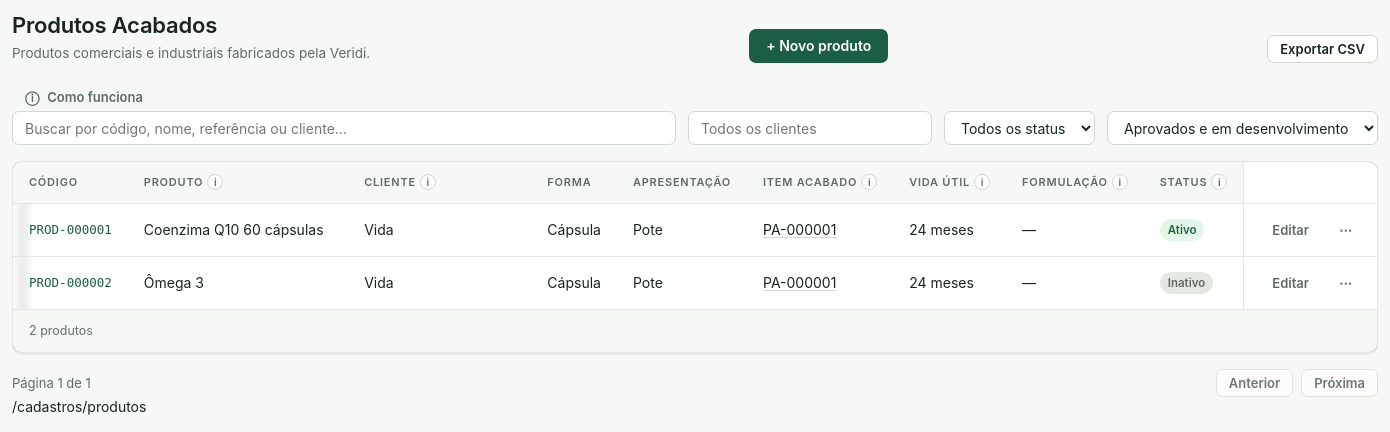
Test: MASTER-DATA-EDIT-PERMISSIONS-01 — Comercial e Administrador mantêm o Produto › COMMERCIAL: + Novo produto, Editar e Inativar/Reativar, com CMV e Custos no menu
This screenshot has width=1390, height=432.
Expected: the text "PROD-000001" is shown, 13,204 -> 128,256
Expected: the number of buttons "Editar" is 2, 1259,216 -> 1322,244; 1259,269 -> 1322,297
Click the button named "Mais ações de PROD-000001" at (1346, 230), box 1330,216 -> 1361,244
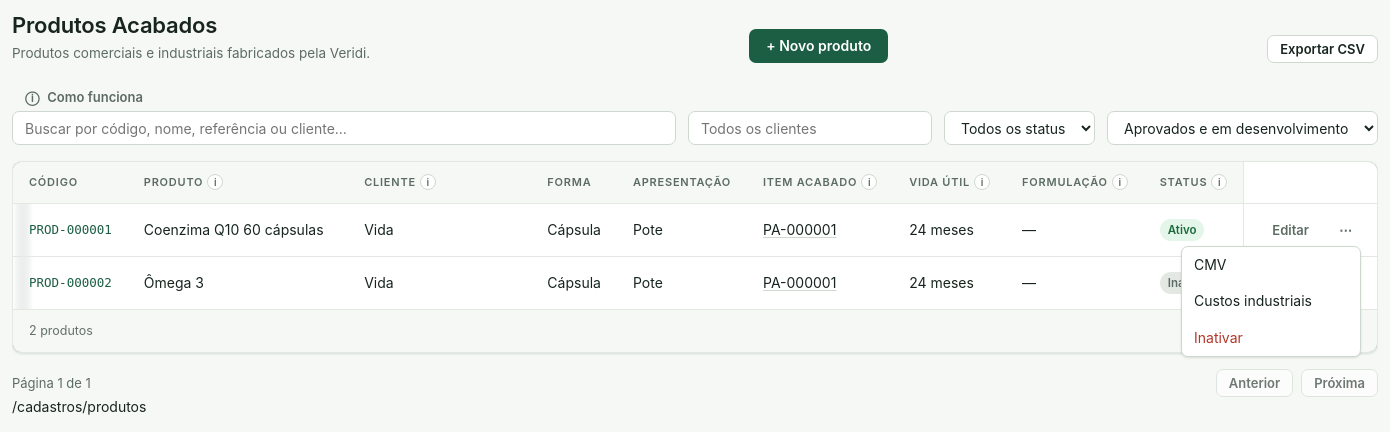
Expected: the menu item "CMV" is shown, 1182,247 -> 1360,283
Expected: the menu item "Custos industriais" is shown, 1182,283 -> 1360,320
Expected: the menu item "Inativar" is shown, 1182,320 -> 1360,356
Click the button named "Mais ações de PROD-000001" at (1346, 230), box 1330,216 -> 1361,244
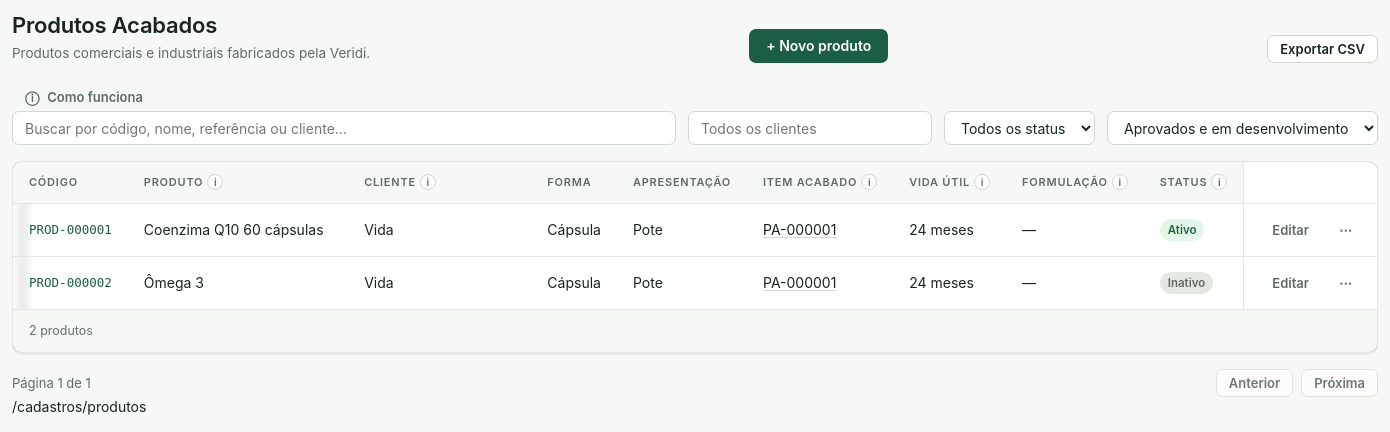
Click the button named "Mais ações de PROD-000002" at (1346, 283), box 1330,269 -> 1361,297
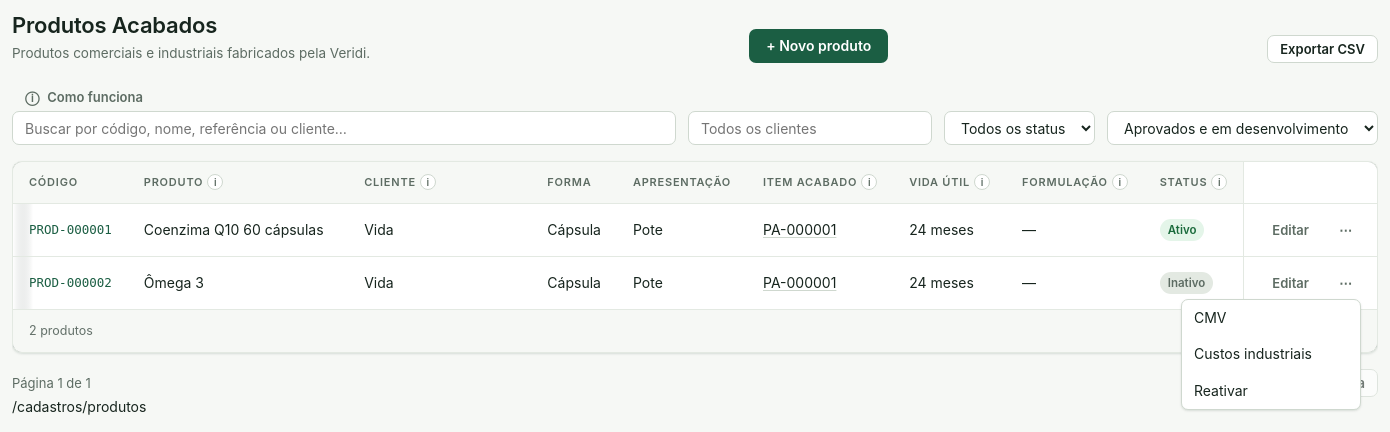
Expected: the menu item "Reativar" is shown, 1182,373 -> 1360,409
